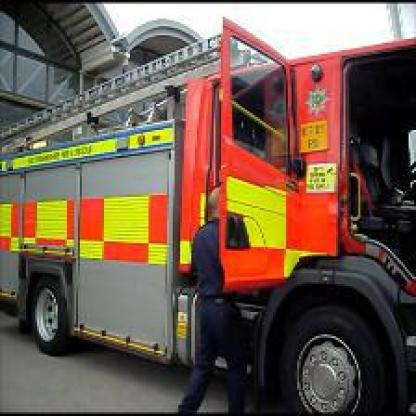other: (220, 47, 316, 268), (0, 184, 156, 264)
